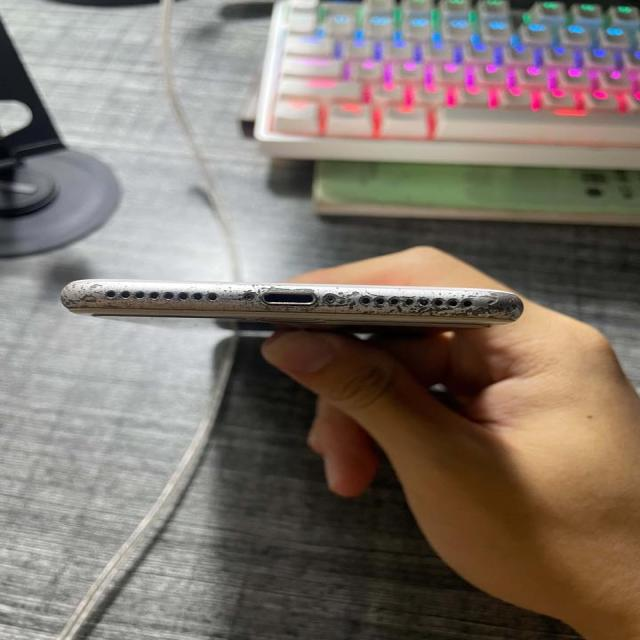scratch: (60, 279, 262, 310), (426, 284, 526, 322), (346, 281, 425, 317), (262, 281, 344, 313)
